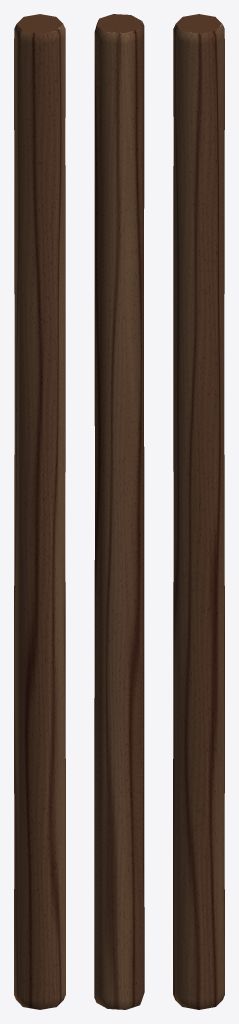
The model's file is cinderpine_shaft.glb.
3 renders of one model, left to right at view 1: azimuth 90°, elevation 25°; view 2: azimuth 150°, elevation 25°; view 3: azimuth 270°, elevation 25°, orthographic.
Parts seen in each view (by area): view 1: walnut worked longitudinal grain, walnut endgrain on both sawn ends; view 2: walnut worked longitudinal grain, walnut endgrain on both sawn ends; view 3: walnut worked longitudinal grain, walnut endgrain on both sawn ends.
Part boxes in pixels (x1,y1,x2,y2): walnut worked longitudinal grain: [14, 24, 65, 1009]; walnut endgrain on both sawn ends: [17, 14, 62, 33]; walnut worked longitudinal grain: [94, 20, 144, 1009]; walnut endgrain on both sawn ends: [97, 14, 141, 32]; walnut worked longitudinal grain: [173, 24, 224, 1009]; walnut endgrain on both sawn ends: [176, 14, 221, 33].
Bounding box in the file's own units: 0.0542 × 1.12 × 0.0541.
Materials: 2 (2 with a texture image).
